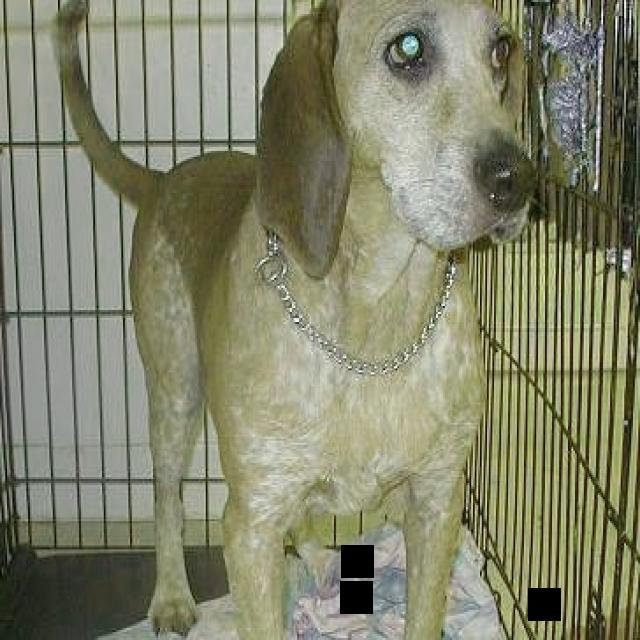adult_dog: (60, 1, 545, 636)
